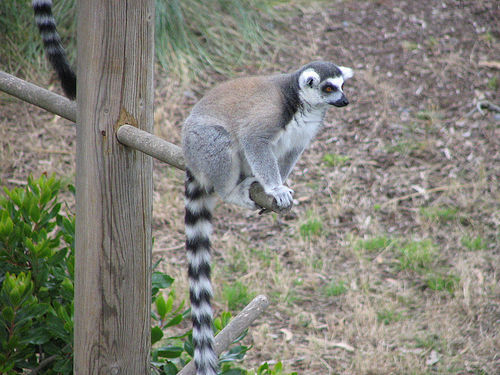cat: (178, 61, 355, 374)
